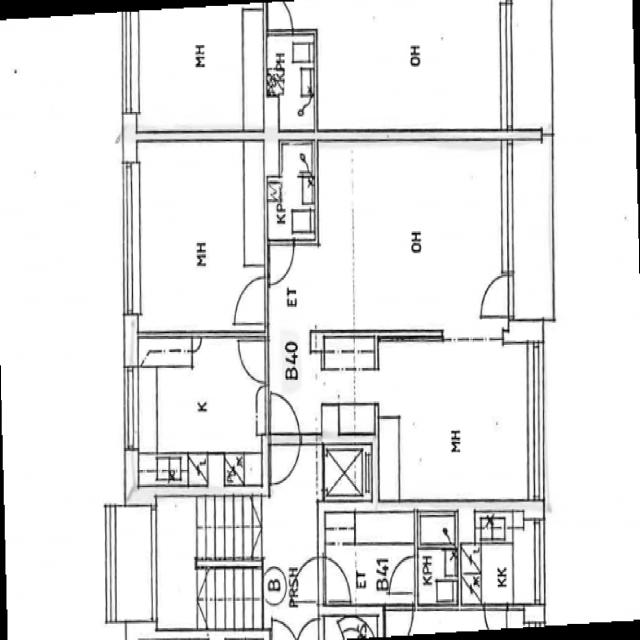door: (264, 390, 306, 488), (230, 272, 268, 332), (317, 551, 355, 609), (476, 269, 517, 322), (233, 334, 271, 386), (265, 235, 298, 288), (386, 552, 418, 604), (269, 614, 325, 640), (265, 0, 297, 37)
window: (114, 142, 149, 325), (116, 5, 144, 125), (496, 136, 519, 282), (494, 1, 520, 128), (118, 354, 142, 464)
zone: (290, 143, 510, 340), (287, 0, 506, 140), (374, 338, 547, 507), (128, 136, 266, 337), (128, 334, 268, 493), (134, 3, 266, 136), (456, 506, 546, 632), (320, 508, 417, 612), (267, 26, 315, 137), (416, 507, 458, 612), (416, 506, 456, 550)
